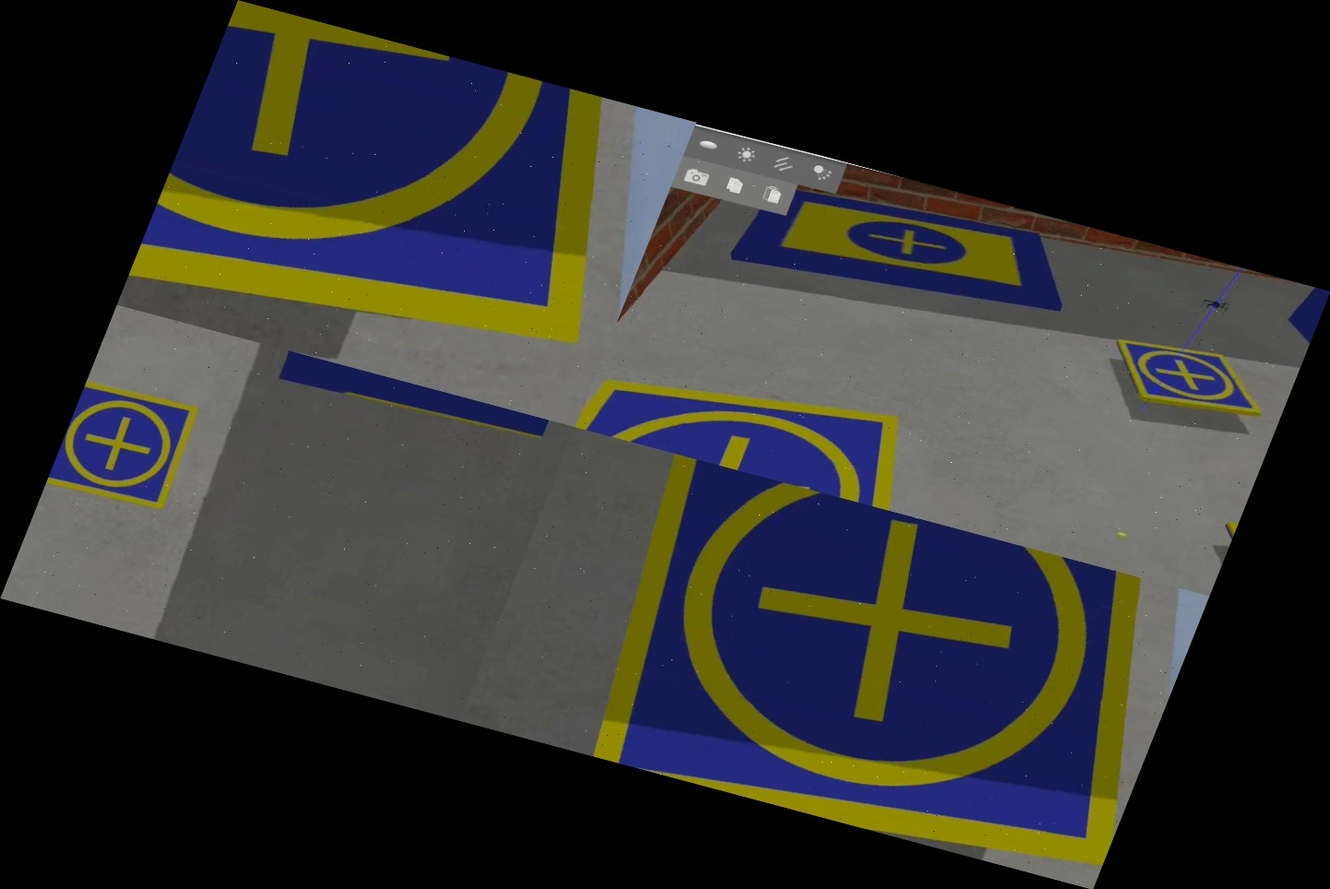large_base: (724, 159, 1088, 348)
small_base: (549, 451, 1208, 889), (120, 0, 668, 412), (575, 339, 957, 520), (46, 376, 206, 514), (1096, 330, 1278, 435)
